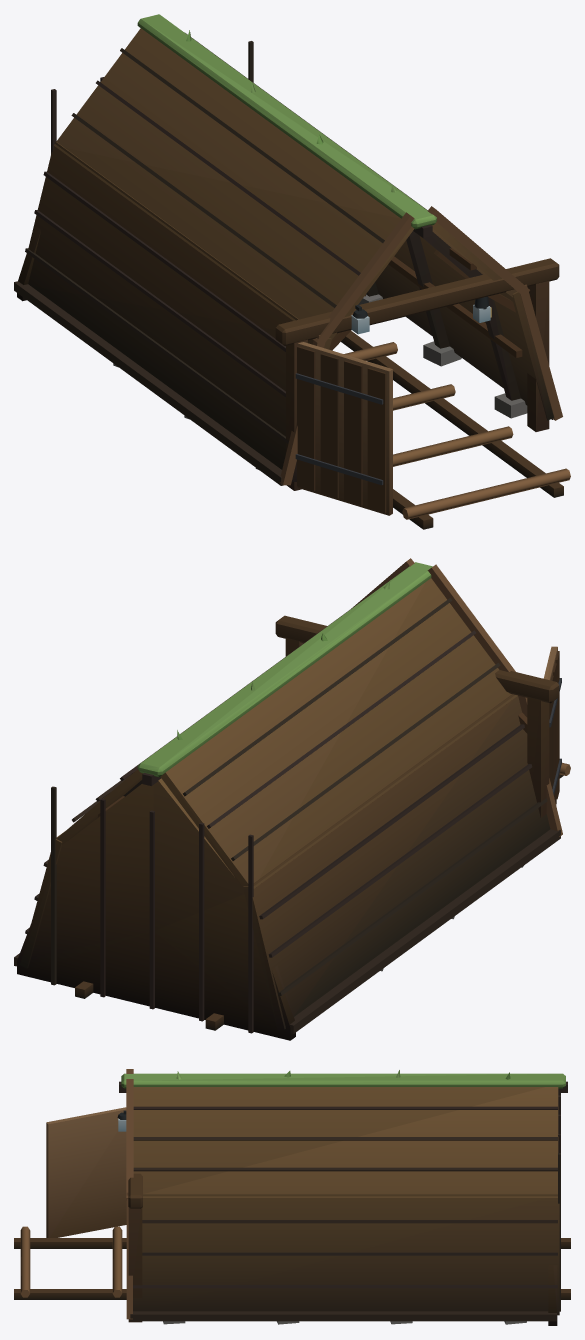
Rendered from boathouse-naust.glb.
3 views of the same model, one above another, from view 1: azimuth 30°, elevation 25°; view 2: azimuth 150°, elevation 25°; view 3: azimuth 270°, elevation 25° (orthographic). The views are drawn at different scales.
Parts seen in each view (by area): view 1: boathouse_naust; view 2: boathouse_naust; view 3: boathouse_naust.
Part boxes in pixels (x1=…): boathouse_naust: x1=14, y1=14, x2=570, y2=529; boathouse_naust: x1=14, y1=558, x2=570, y2=1040; boathouse_naust: x1=14, y1=1069, x2=570, y2=1325.
Bounding box in the file's own units: 4.55 × 3.95 × 9.8.
